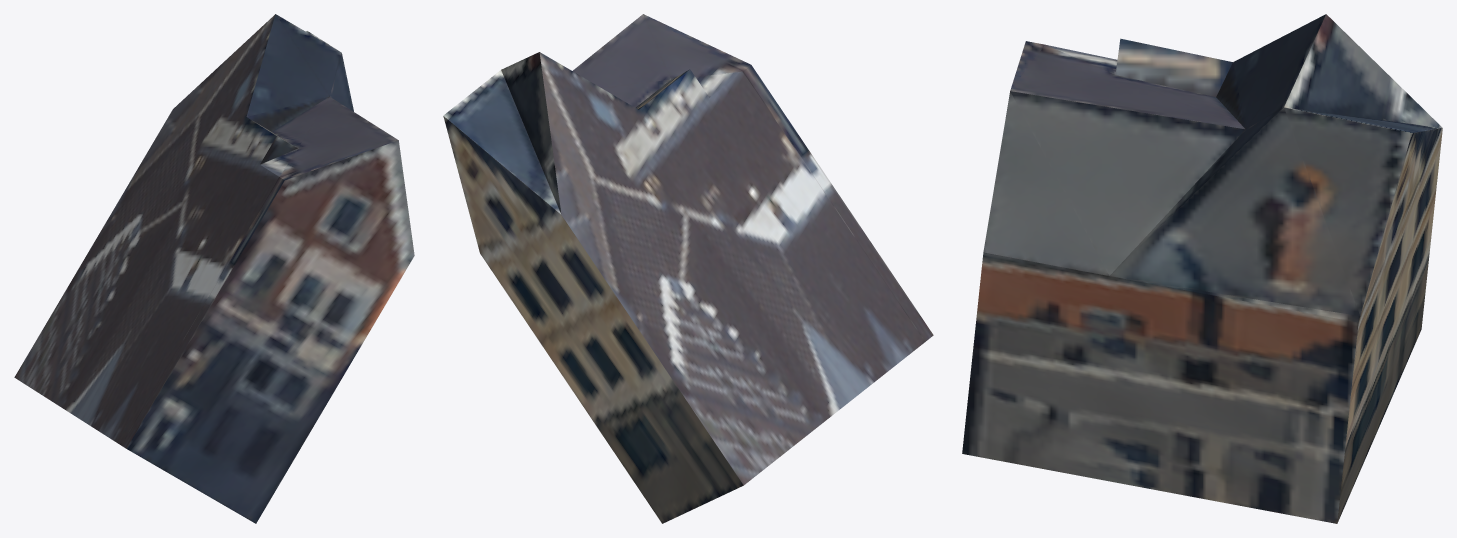
The picture shows the model from 3 angles, left to right: view 1: azimuth 30°, elevation 25°; view 2: azimuth 150°, elevation 25°; view 3: azimuth 270°, elevation 25°; orthographic projection. The views are drawn at different scales.
Parts seen in each view (by area): view 1: BAG_0599100000760482 (×2); view 2: BAG_0599100000760482 (×2); view 3: BAG_0599100000760482 (×2).
Part boxes in pixels (x1,y1,x2,y2): BAG_0599100000760482 (×2): (14,14,414,523); BAG_0599100000760482 (×2): (443,14,933,523); BAG_0599100000760482 (×2): (962,14,1442,523).
Size of the model in its own units: 14.81 by 18.22 by 13.36.
1 material, 1 textured.
